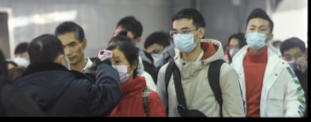with_mask: (107, 52, 133, 85), (170, 24, 200, 52), (246, 21, 272, 49), (283, 49, 306, 73), (145, 47, 169, 68), (54, 48, 71, 72), (13, 51, 32, 68), (228, 40, 242, 59)
without_mask: (61, 38, 84, 65)
